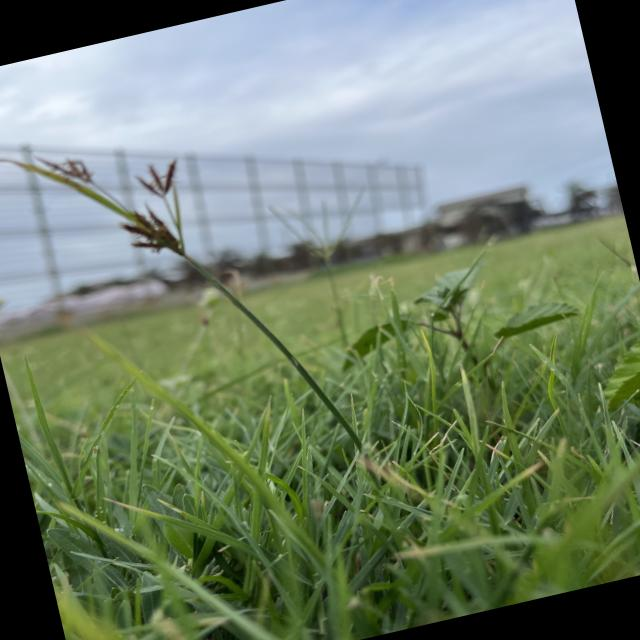cyperus: (8, 100, 224, 294)
